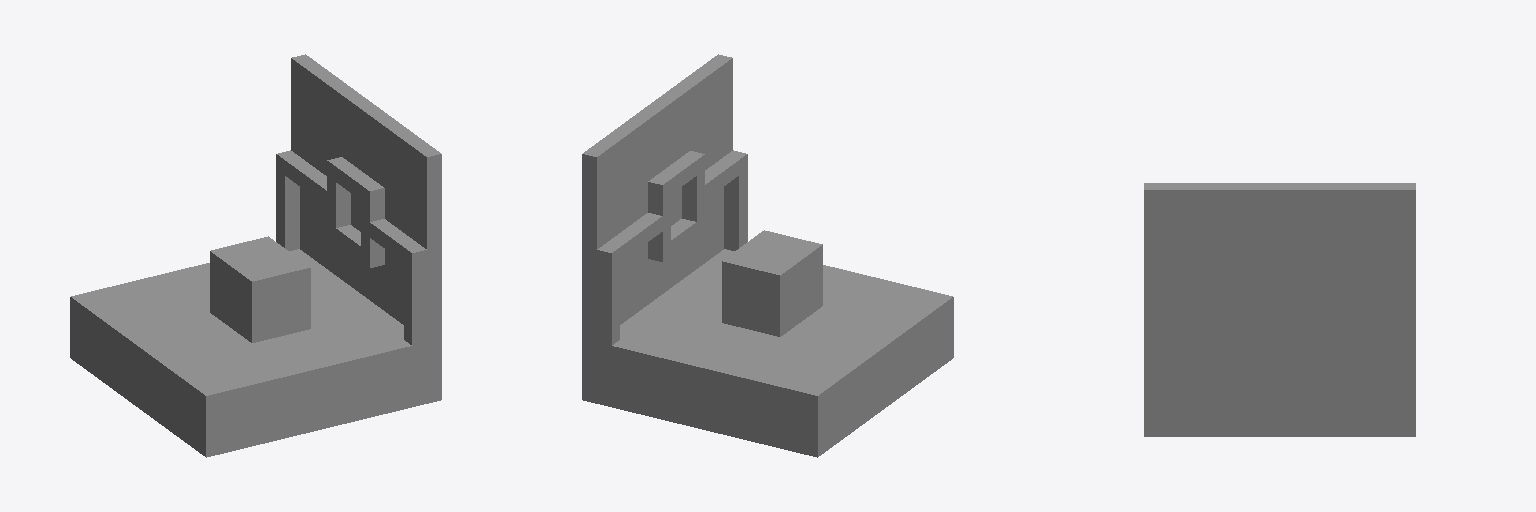
The model's file is charger.obj.
The picture shows the model from 3 angles: view 1: azimuth 30°, elevation 25°; view 2: azimuth 150°, elevation 25°; view 3: azimuth 270°, elevation 25°; orthographic projection.
Visible parts, largest first — view 1: Cube; view 2: Cube; view 3: Cube.
Part boxes in pixels (bbox=[...]): Cube: bbox=[70, 54, 441, 457]; Cube: bbox=[582, 54, 953, 457]; Cube: bbox=[1144, 183, 1415, 436].
Size of the model in its own units: 1 by 1 by 1.